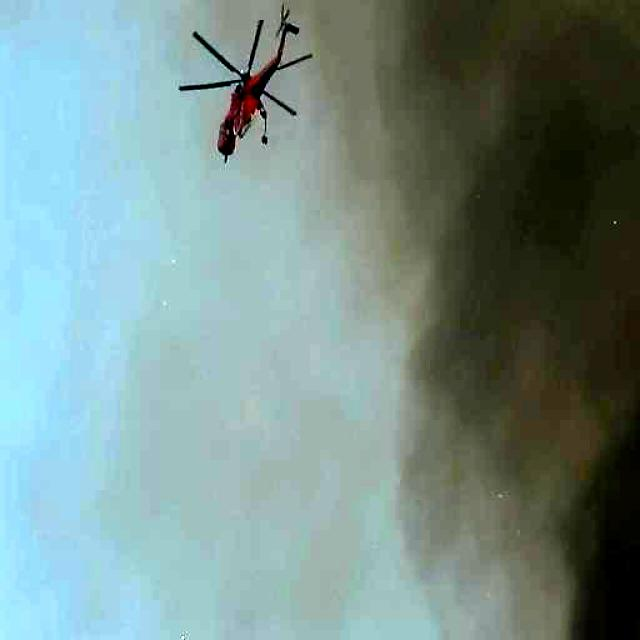drone: (179, 0, 315, 168)
